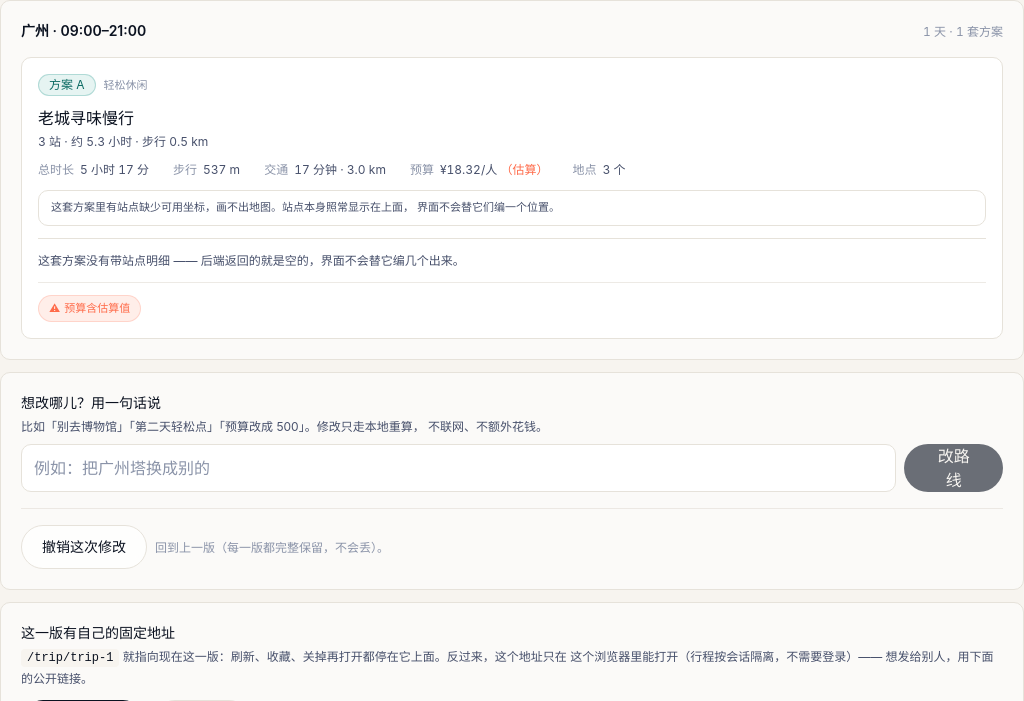
Test: 改路线 › 提交指令 → 调 revise → 切换到新版本并重新取回
Expected: the element with test id "trip-result" is shown, left=0, top=0, right=1023, bottom=360
Type "改成 2 天" into the field labelled "想改哪儿？用一句话说" at (459, 468), box left=21, top=444, right=896, bottom=492
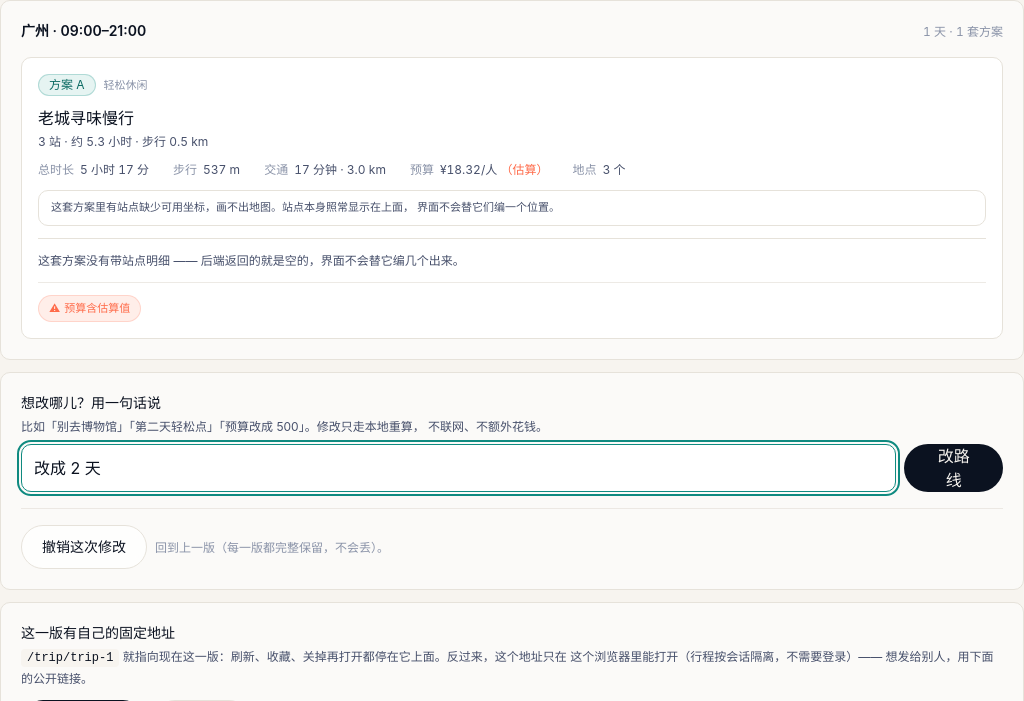
Click the button "改路线" at (954, 468), box left=904, top=444, right=1003, bottom=492
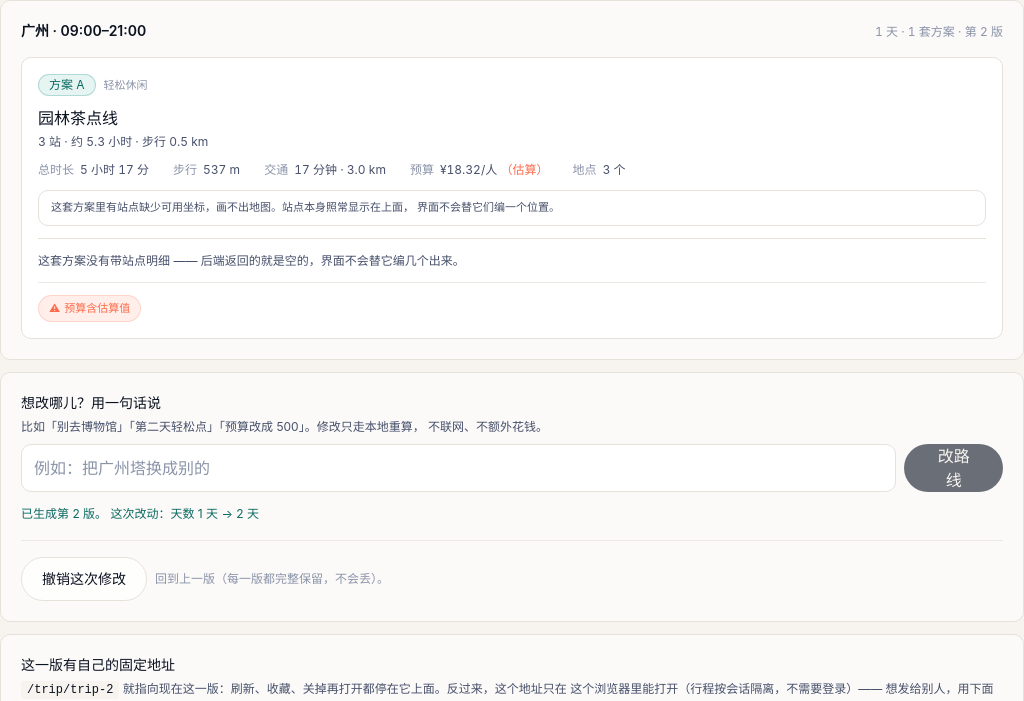
Result: the text with test id "revision-note" shows "天数 1 天 → 2 天" at left=107, top=506, right=259, bottom=521
Result: the text with test id "revision-note" shows "已生成第 2 版" at left=21, top=506, right=259, bottom=521
Result: the heading "园林茶点线" is shown at left=38, top=108, right=118, bottom=128
